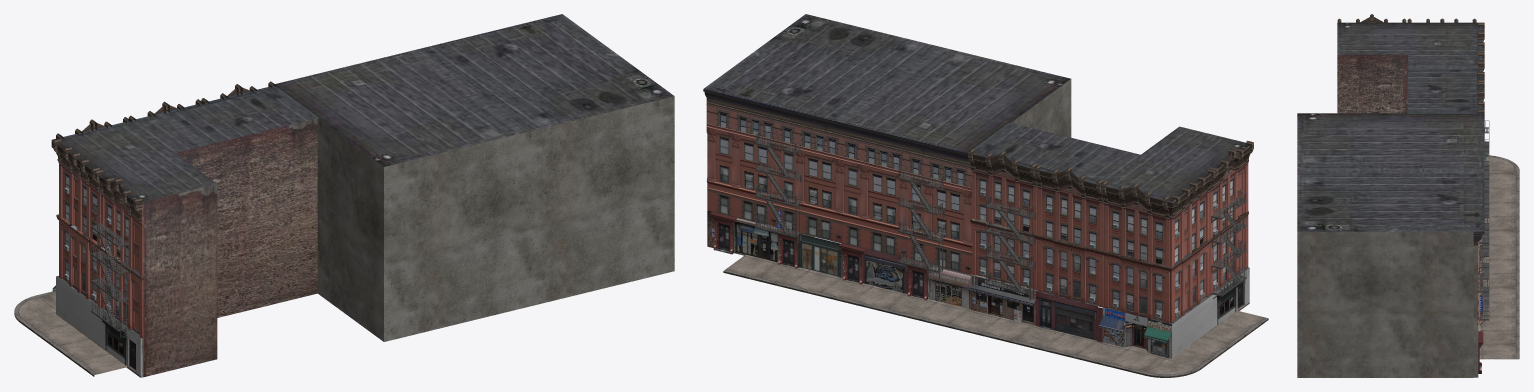
File: city_building.glb
The picture shows the model from 3 angles, left to right: view 1: azimuth 30°, elevation 25°; view 2: azimuth 150°, elevation 25°; view 3: azimuth 270°, elevation 25°; orthographic projection. The views are drawn at different scales.
Parts seen in each view (by area): view 1: mainerz.004_Concrete_0_8, mainerz.003_Misc_0_6, mainerz.002_Red Build 2_0_4, mainerz_Red building 1_0_0, Sidewalks.001_15, mainerz.001_Metal_0_2; view 2: mainerz.002_Red Build 2_0_4, mainerz_Red building 1_0_0, Sidewalks.001_15, mainerz.001_Metal_0_2, mainerz.003_Misc_0_6, mainerz.004_Concrete_0_8; view 3: mainerz.004_Concrete_0_8, mainerz.002_Red Build 2_0_4, mainerz_Red building 1_0_0, Sidewalks.001_15, mainerz.003_Misc_0_6, mainerz.001_Metal_0_2.
Part boxes in pixels (x1,y1,x2,y2): mainerz.004_Concrete_0_8: (317, 96, 674, 341); mainerz.003_Misc_0_6: (56, 118, 318, 377); mainerz.002_Red Build 2_0_4: (273, 14, 673, 166); mainerz_Red building 1_0_0: (51, 81, 318, 338); Sidewalks.001_15: (14, 291, 127, 376); mainerz.001_Metal_0_2: (91, 215, 130, 338); mainerz.002_Red Build 2_0_4: (703, 14, 1070, 308); mainerz_Red building 1_0_0: (968, 122, 1253, 358); Sidewalks.001_15: (723, 234, 1268, 377); mainerz.001_Metal_0_2: (755, 131, 1246, 300); mainerz.003_Misc_0_6: (1010, 188, 1249, 358); mainerz.004_Concrete_0_8: (707, 79, 1071, 281); mainerz.004_Concrete_0_8: (1297, 231, 1478, 377); mainerz.002_Red Build 2_0_4: (1297, 113, 1484, 373); mainerz_Red building 1_0_0: (1337, 14, 1486, 160); Sidewalks.001_15: (1479, 155, 1519, 359); mainerz.003_Misc_0_6: (1337, 55, 1407, 113); mainerz.001_Metal_0_2: (1478, 120, 1489, 324).
Bounding box in the file's own units: 67.07 × 21.77 × 28.46.
Materials: 6 (6 with a texture image).
